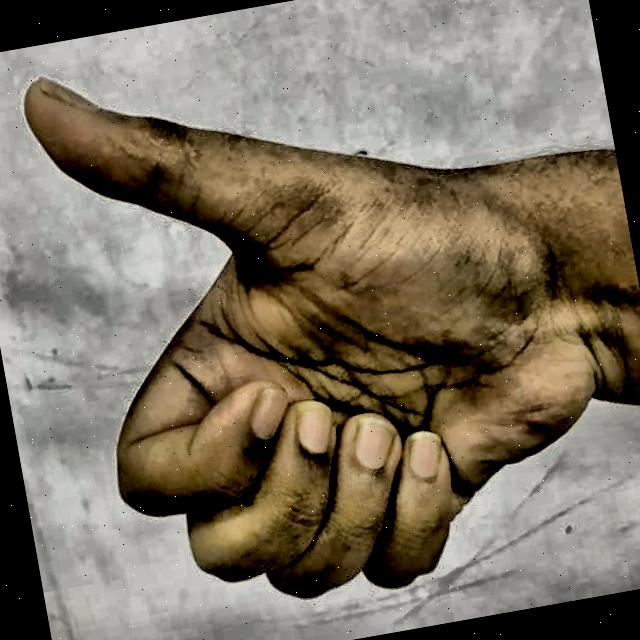Do: (0, 0, 631, 640)
